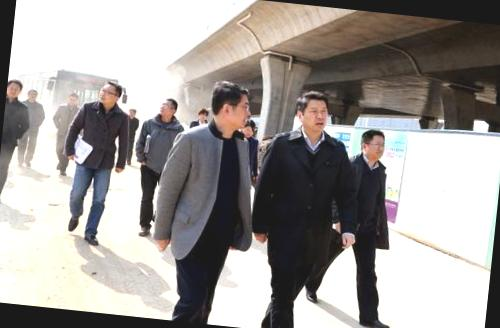no_helmet: (208, 78, 252, 136), (292, 88, 335, 138), (356, 126, 390, 165), (96, 76, 127, 111), (155, 93, 179, 122), (238, 117, 258, 140), (6, 78, 23, 104), (22, 86, 39, 104), (63, 88, 80, 106)
